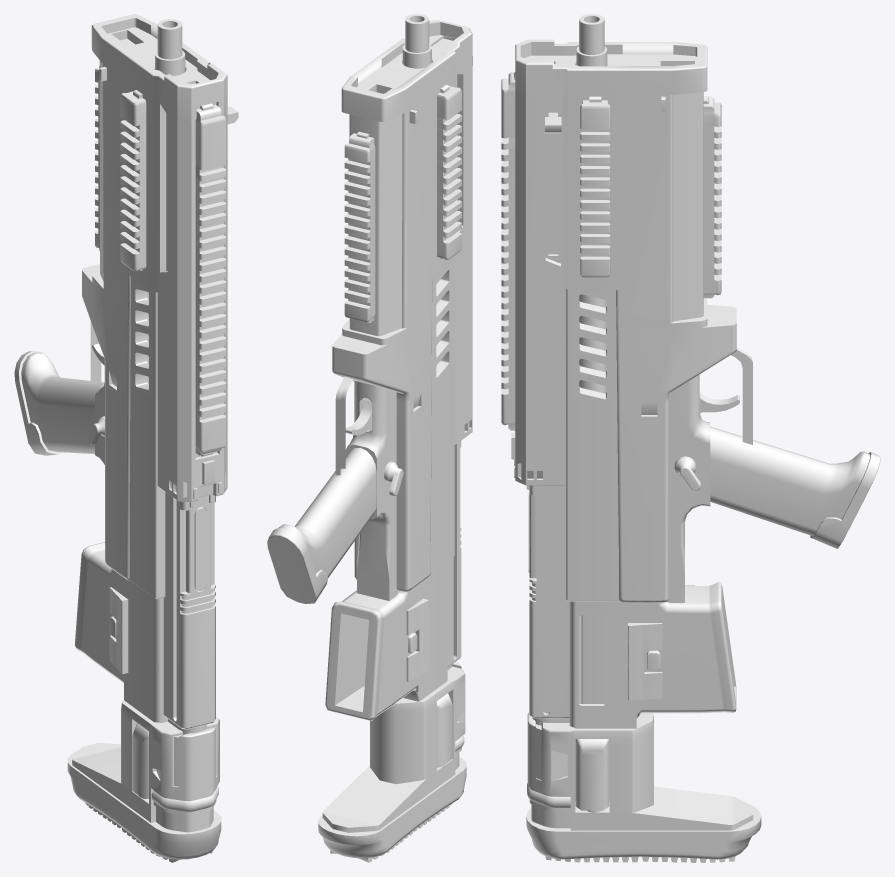
The picture shows the model from 3 angles, left to right: view 1: azimuth 30°, elevation 25°; view 2: azimuth 150°, elevation 25°; view 3: azimuth 270°, elevation 25°; orthographic projection. The views are drawn at different scales.
Visible parts, largest first — view 1: _0xa7ee1ebf58fcdf1f; view 2: _0xa7ee1ebf58fcdf1f; view 3: _0xa7ee1ebf58fcdf1f.
Boxes of the visible parts, x1,y1,x2,y2 form: _0xa7ee1ebf58fcdf1f: (14,14,238,862); _0xa7ee1ebf58fcdf1f: (267,14,472,862); _0xa7ee1ebf58fcdf1f: (501,14,880,862).
Size of the model in its own units: 7.34 by 66.03 by 27.29.
